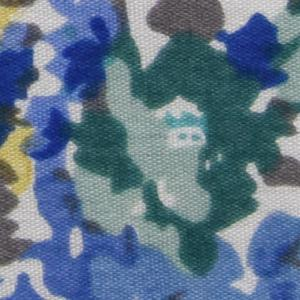Oil Stain: (1, 100, 37, 200), (1, 1, 37, 47)
